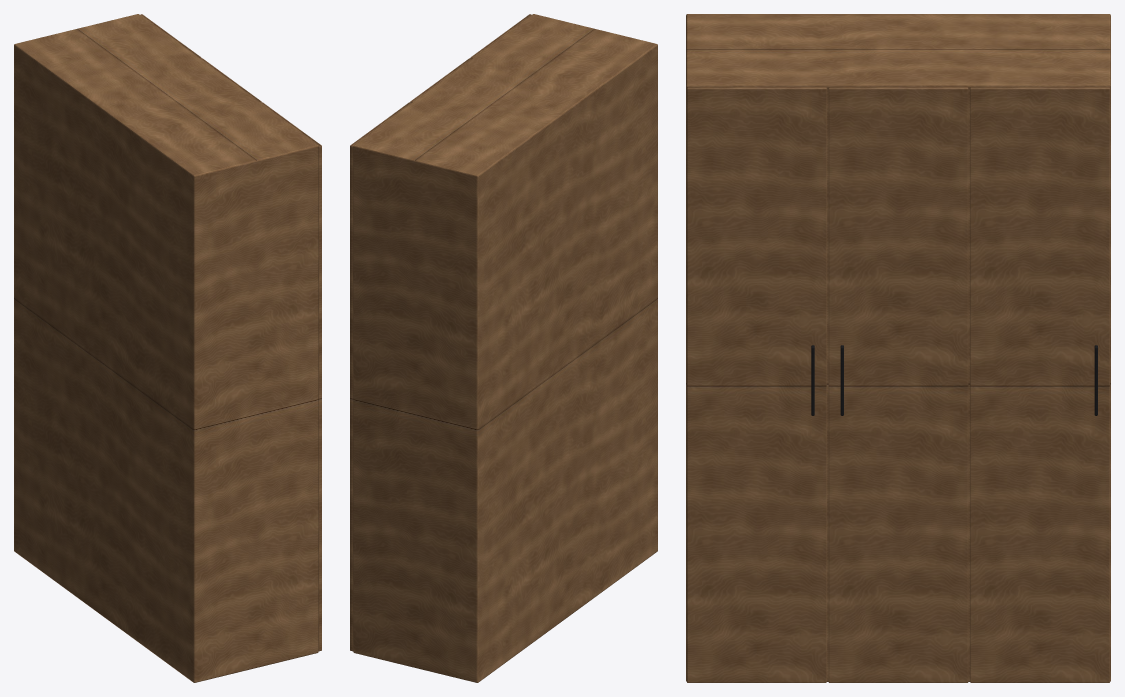
Rendered from bed3_wardrobe.glb.
3 views of the same model, side by side, from view 1: azimuth 30°, elevation 25°; view 2: azimuth 150°, elevation 25°; view 3: azimuth 270°, elevation 25° (orthographic). The views are drawn at different scales.
Visible parts, largest first — view 1: bed3_wardrobe; view 2: bed3_wardrobe; view 3: bed3_wardrobe.
Part boxes in pixels (x1,y1,x2,y2): bed3_wardrobe: (14,14,321,682); bed3_wardrobe: (350,14,657,682); bed3_wardrobe: (686,14,1110,682).
Bounding box in the file's own units: 0.616 × 2.25 × 1.45.
2 materials, 2 textured.
